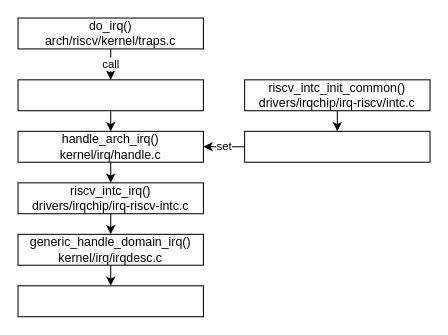
Some shapes in this 448 by 335 pixel diagram are drawn without their labels. Here are the shapes that lost their labels. From the top down, the centre of each, then its label:
At (110,95): "handle_riscv_irq() arch/riscv/kernel/traps.c".
At (337,146): "set_handle_irq() kernel_irq_handle.c".
At (110,301): "通用 IRQ 层".
